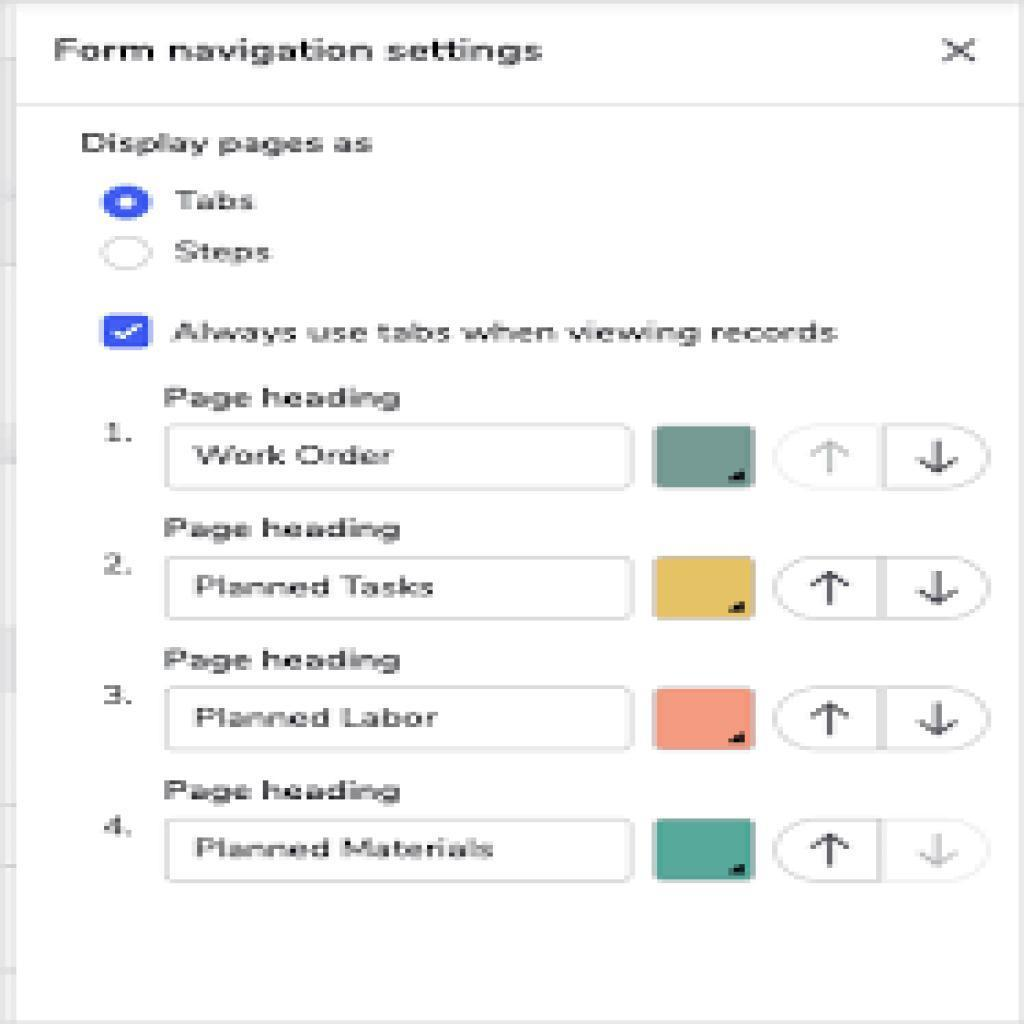checkbox: (100, 314, 155, 351)
icon: (911, 427, 968, 483), (800, 697, 861, 746), (804, 430, 860, 481), (912, 567, 970, 616), (810, 562, 860, 616), (912, 697, 969, 743), (805, 827, 855, 873), (915, 828, 965, 874), (934, 32, 986, 71)
input: (167, 685, 635, 754), (165, 555, 636, 622), (168, 425, 630, 492), (167, 821, 636, 884)
radio: (97, 185, 155, 221), (101, 235, 155, 272)
